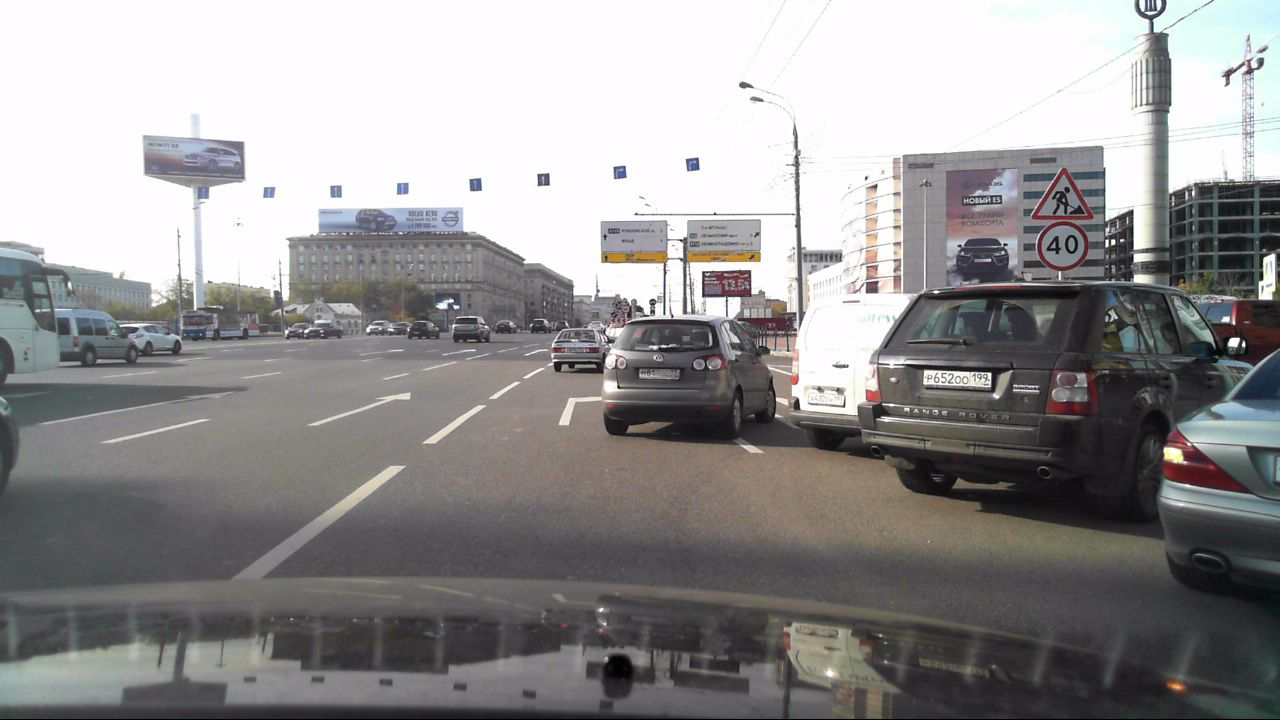speed_warning_40: (1034, 217, 1092, 272)
